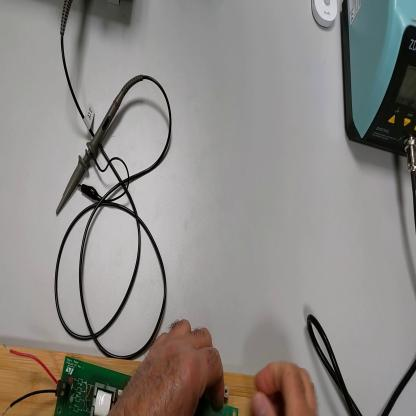hand: (114, 319, 228, 414), (252, 360, 317, 415)
high voltage board: (3, 346, 240, 416)
oscilloscope probe tip: (56, 75, 137, 218)
welder station: (341, 3, 415, 169)
working area: (2, 345, 261, 414)
